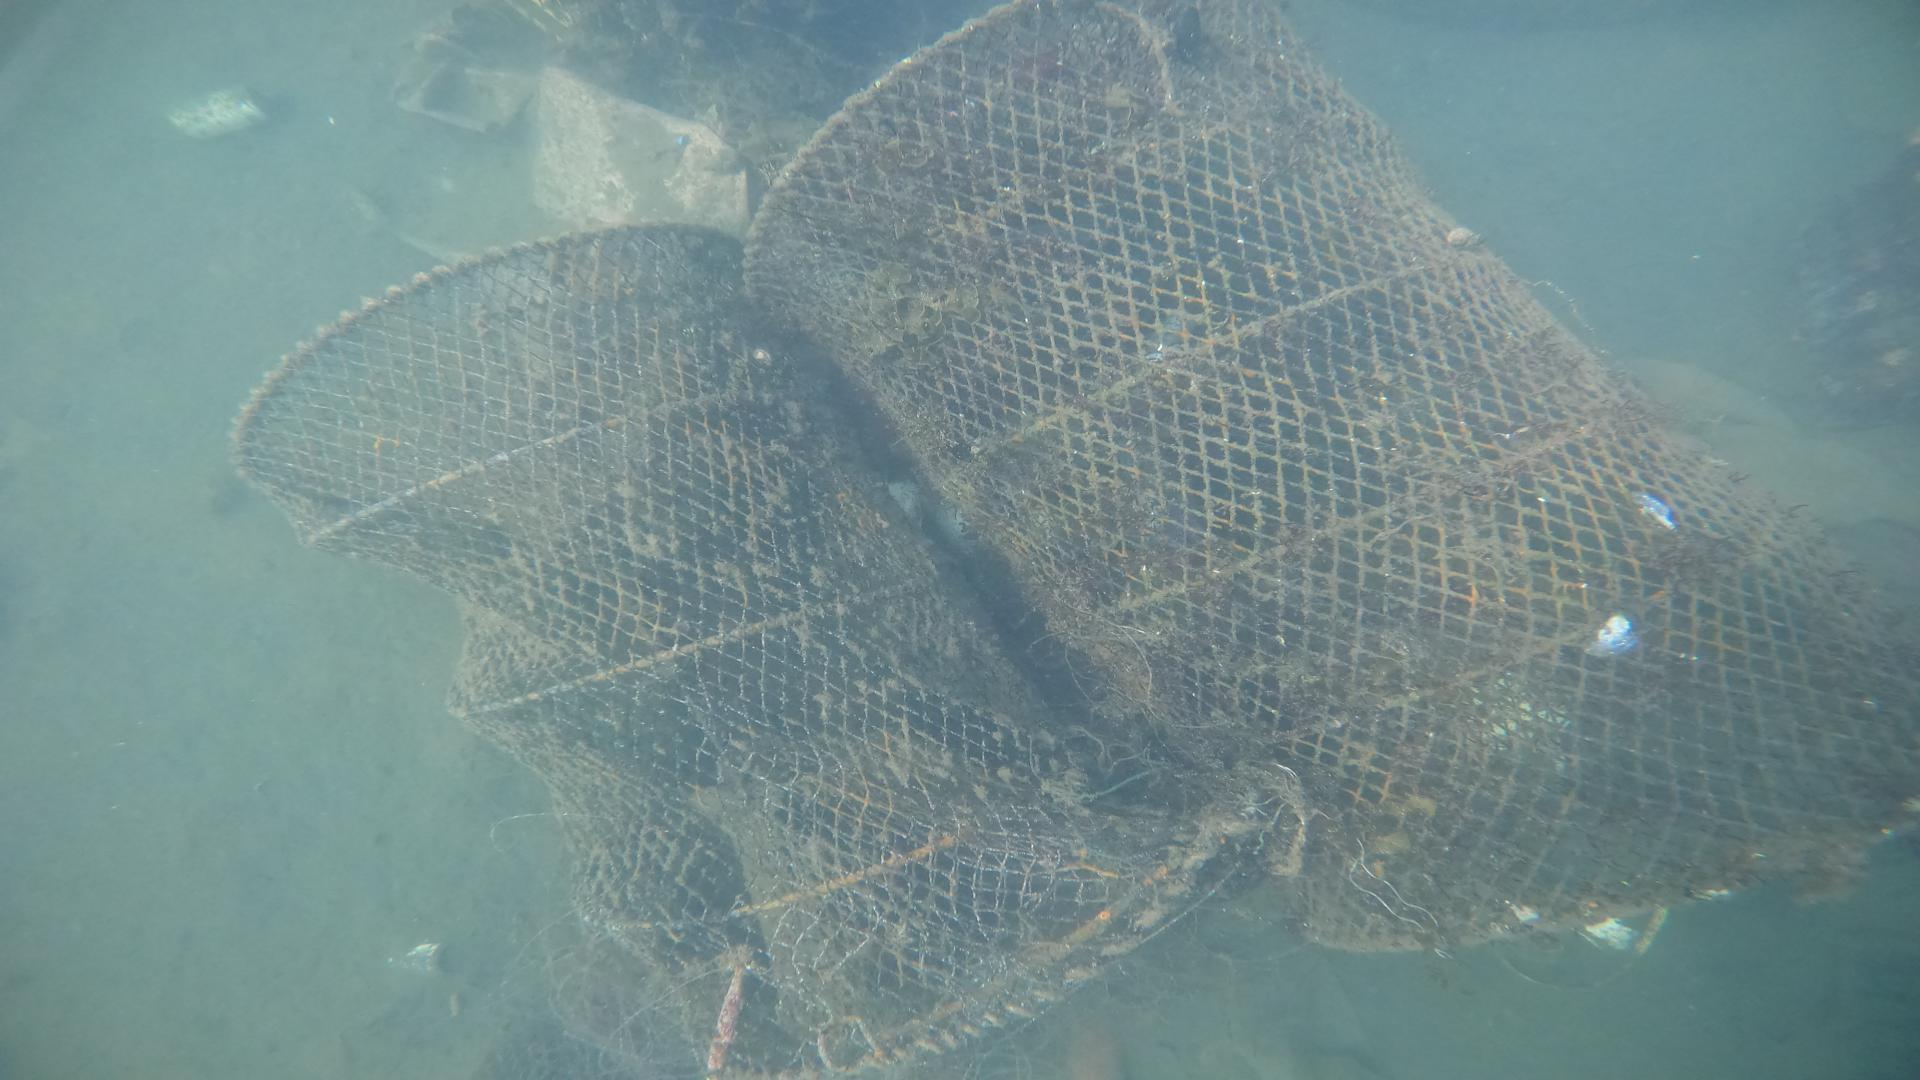spring fish trap: (738, 0, 1920, 949), (229, 214, 1263, 1080)
